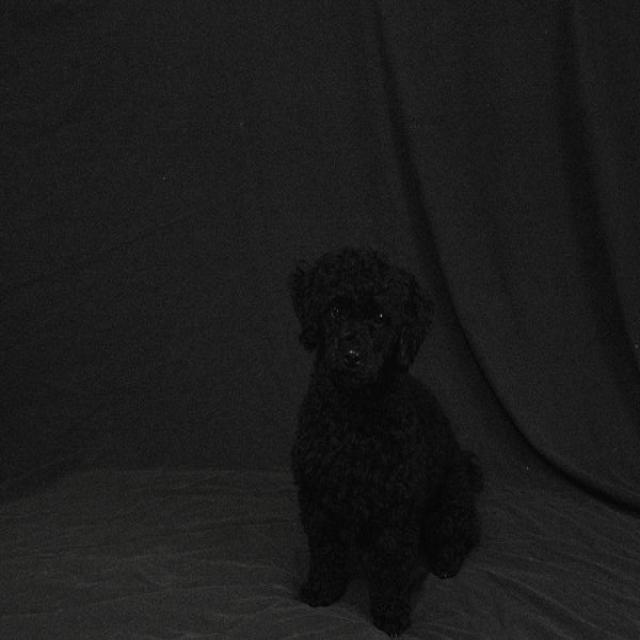Dog: (257, 222, 501, 640)
